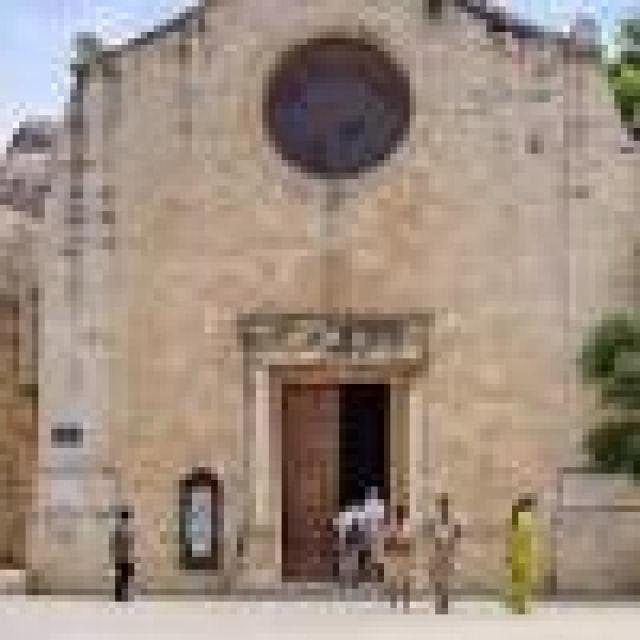Agia Aikaterini: (6, 2, 640, 606)
